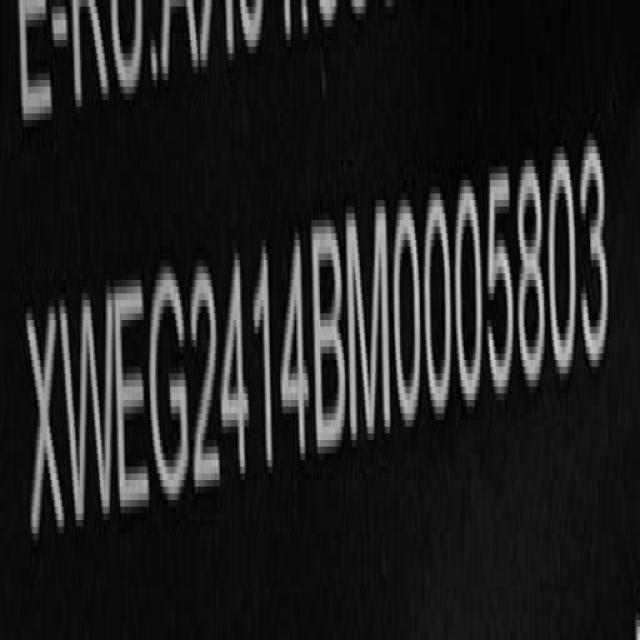0: (390, 185, 423, 440), (422, 190, 455, 440), (547, 143, 578, 403), (454, 175, 484, 425)
1: (250, 234, 276, 482)
2: (188, 262, 222, 501)
3: (579, 146, 610, 388)
4: (278, 220, 312, 469), (219, 244, 253, 489)
5: (486, 160, 515, 420)
8: (517, 161, 546, 395)
B: (309, 217, 349, 464)
E: (112, 272, 150, 524)
G: (147, 267, 190, 506)
M: (344, 202, 393, 454)
W: (60, 284, 115, 558)
X: (27, 289, 67, 546)
